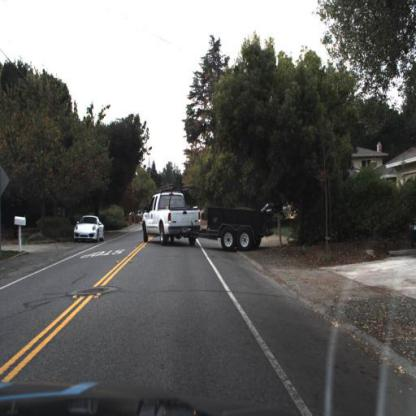car: (72, 215, 104, 243), (264, 201, 292, 226)
truck: (139, 181, 277, 255)
